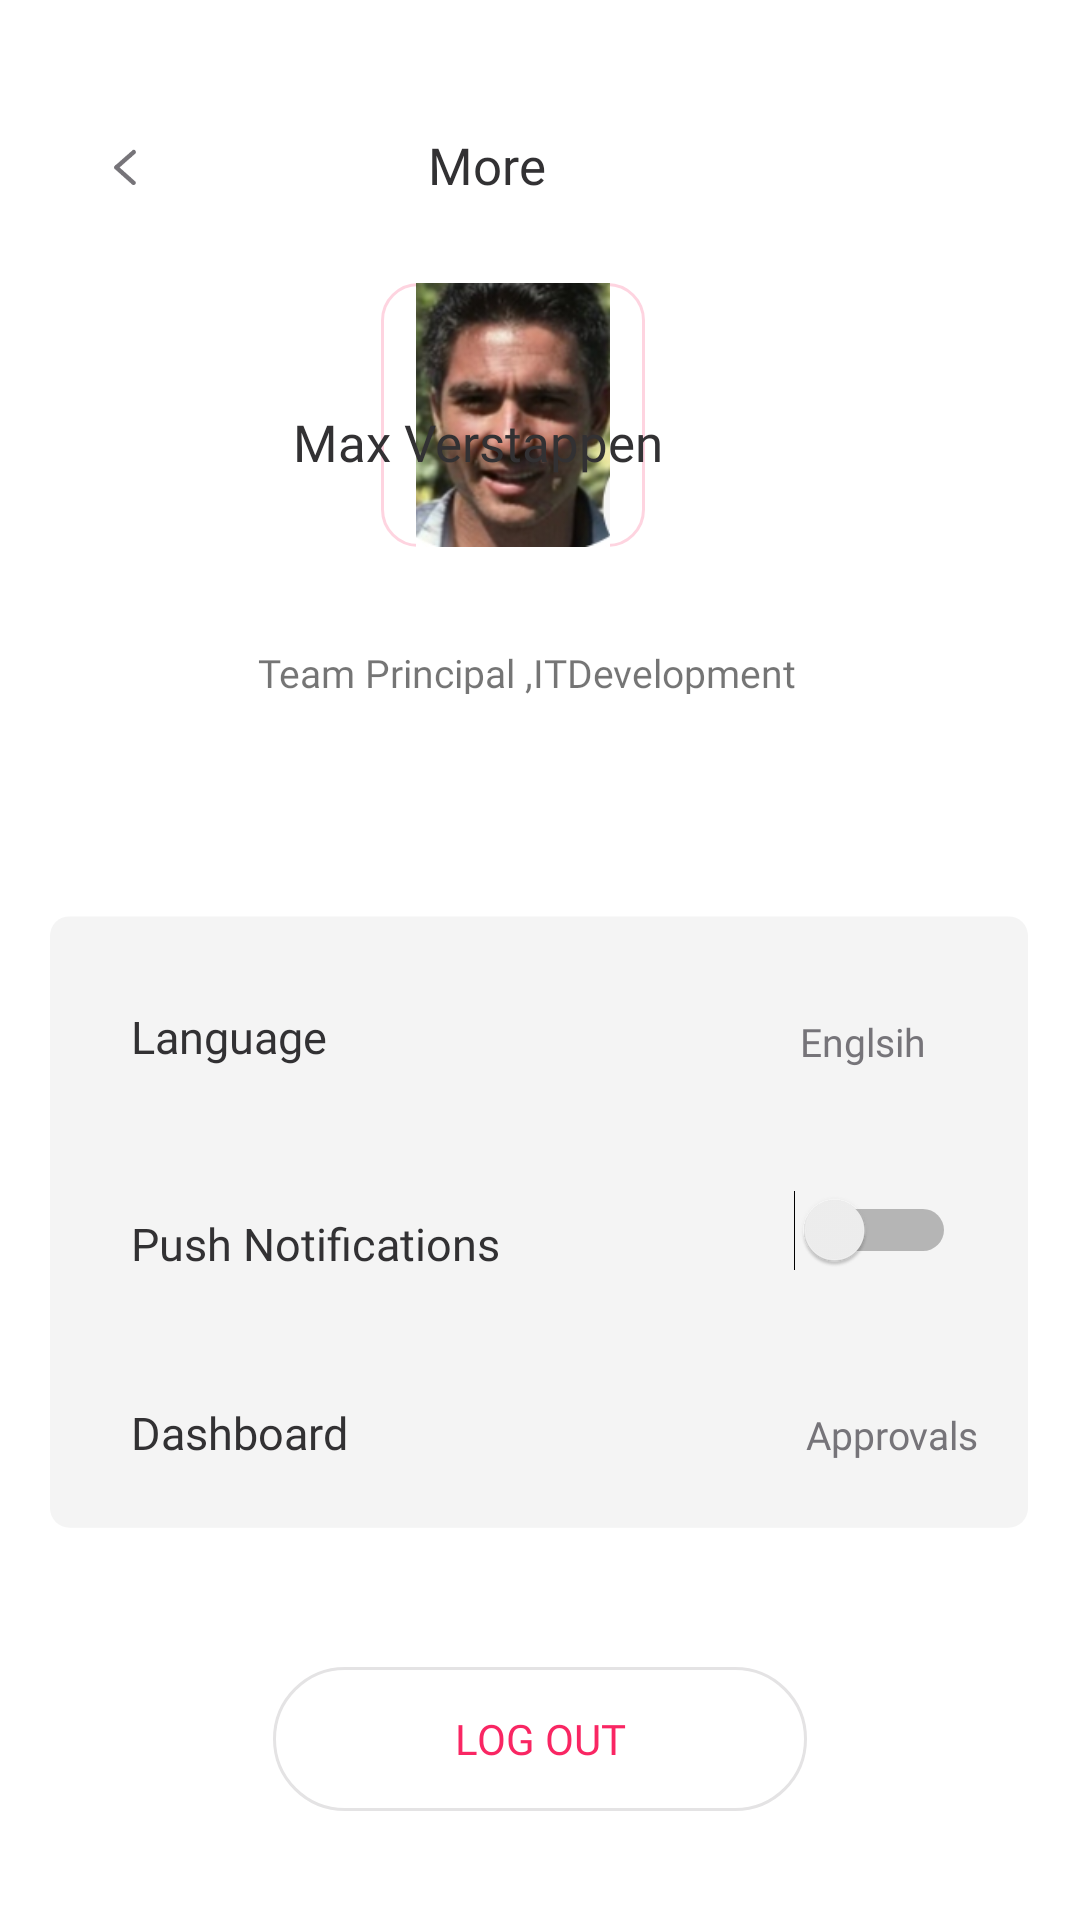

Icons on this 1080 × 1920 Android screen, each with its box as (x1, y1, x2, y2):
back arrow: (114, 149, 136, 185)
